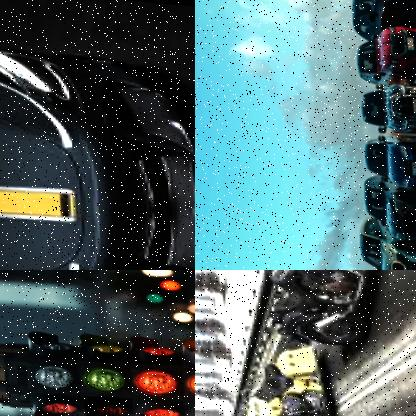bike: (222, 270, 393, 345), (233, 330, 327, 416)
car: (0, 19, 195, 270), (349, 15, 416, 82), (360, 69, 416, 131), (360, 176, 416, 235), (360, 127, 416, 183), (354, 230, 416, 270), (344, 0, 416, 33)
